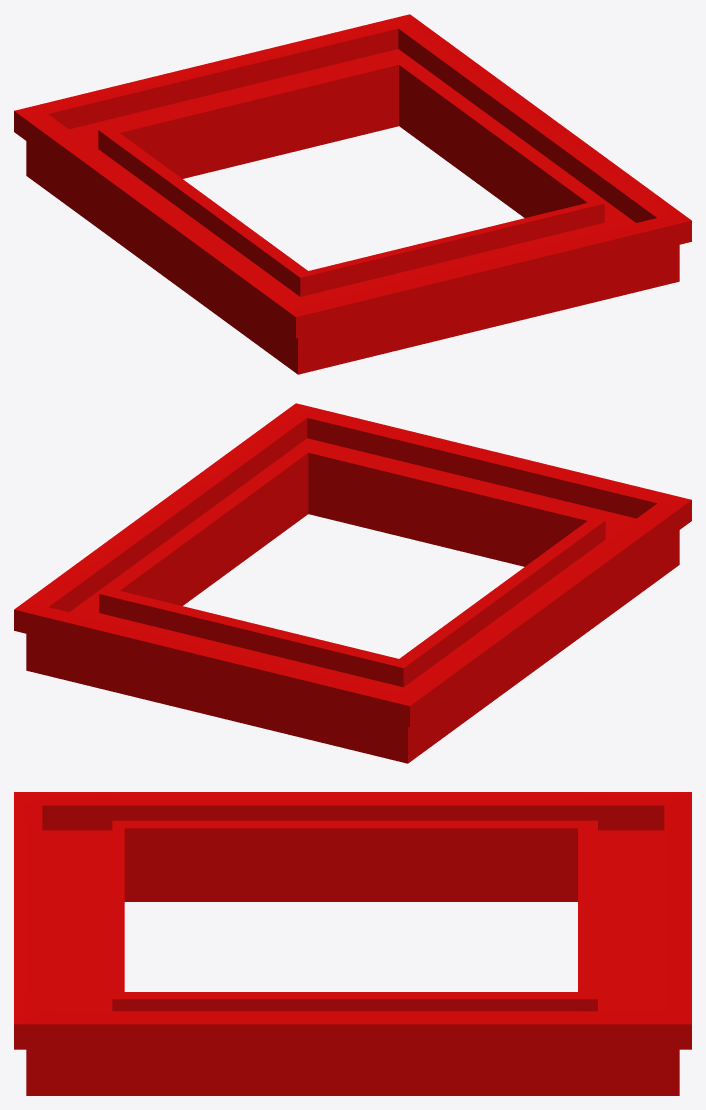
File: mdl_ciudadela_pared.fbx
3 views of the same model, one above another, from view 1: azimuth 30°, elevation 25°; view 2: azimuth 150°, elevation 25°; view 3: azimuth 270°, elevation 25° (orthographic). The views are drawn at different scales.
Parts seen in each view (by area): view 1: mdl_ciudadela_pared; view 2: mdl_ciudadela_pared; view 3: mdl_ciudadela_pared.
Part boxes in pixels (left/top/right/bottom): mdl_ciudadela_pared: left=14, top=14, right=691, bottom=374; mdl_ciudadela_pared: left=14, top=403, right=691, bottom=763; mdl_ciudadela_pared: left=14, top=792, right=691, bottom=1095.
Size of the model in its own units: 27.66 by 4.21 by 34.11.
